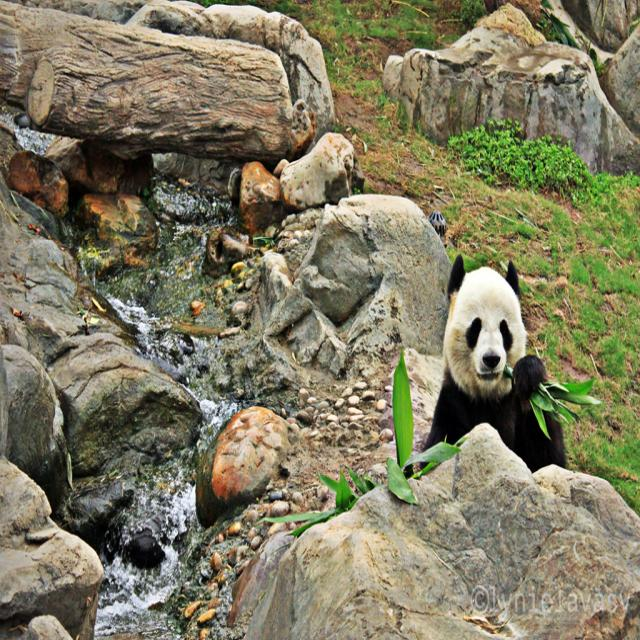panda: (431, 250, 567, 472)
